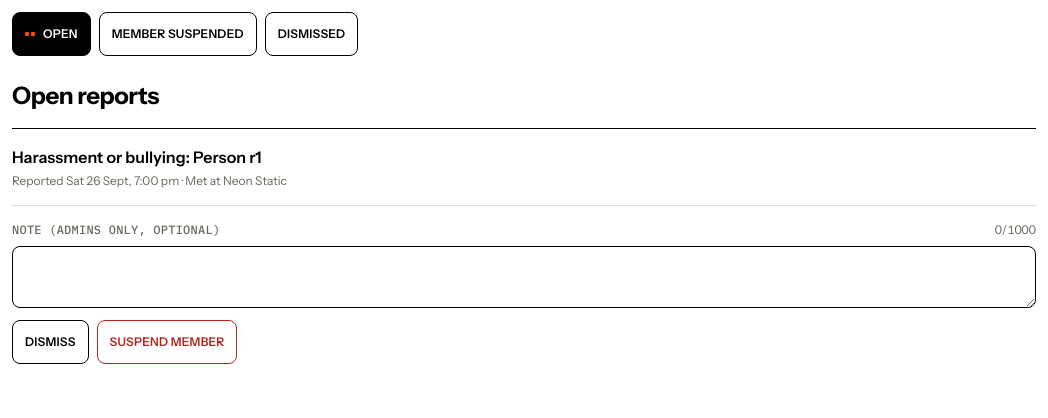
Test case: Admin: member reports › Suspend asks first (focus on Cancel), then suspends
expect the heading "Harassment or bullying: Person r1" is shown: met, box [12,147,262,167]
Step 1. Click the button "Suspend member" → (167, 342), box [96,320,237,364]
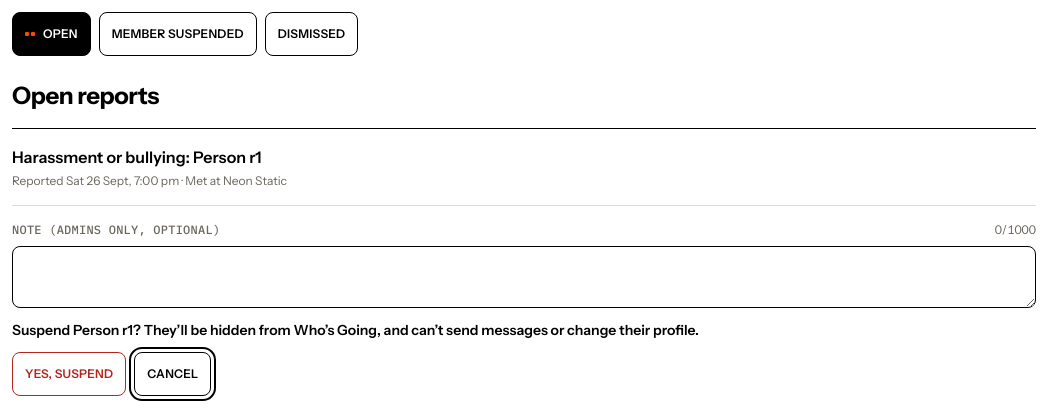
expect the element "Suspend Person r1?" is shown: met, box [12,321,699,396]
Step 2. Click the button "Cancel" → (173, 374), box [134,352,212,396]
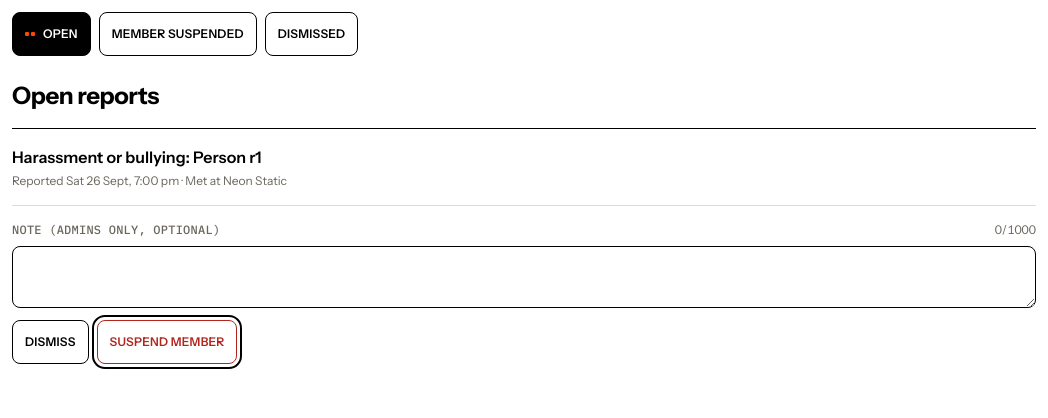
Step 3. Click the button "Suspend member" → (167, 342), box [96,320,237,364]
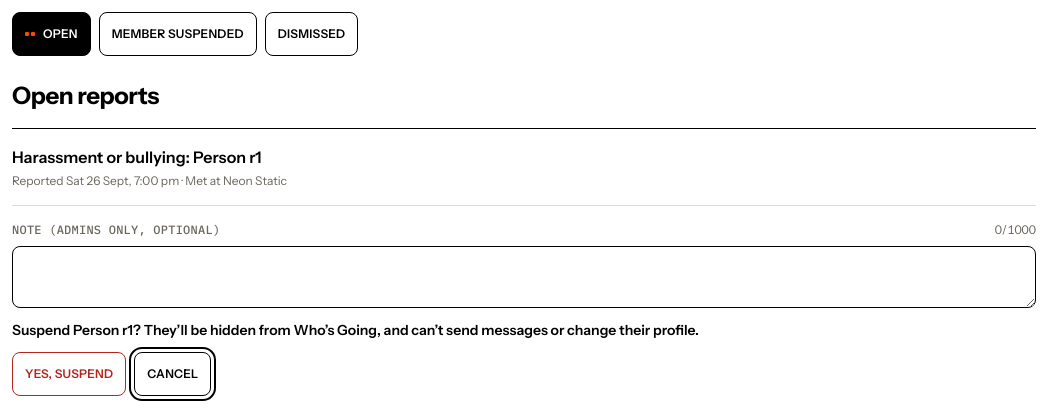
Step 4. Click the button "Yes, suspend" → (69, 374), box [12,352,126,396]
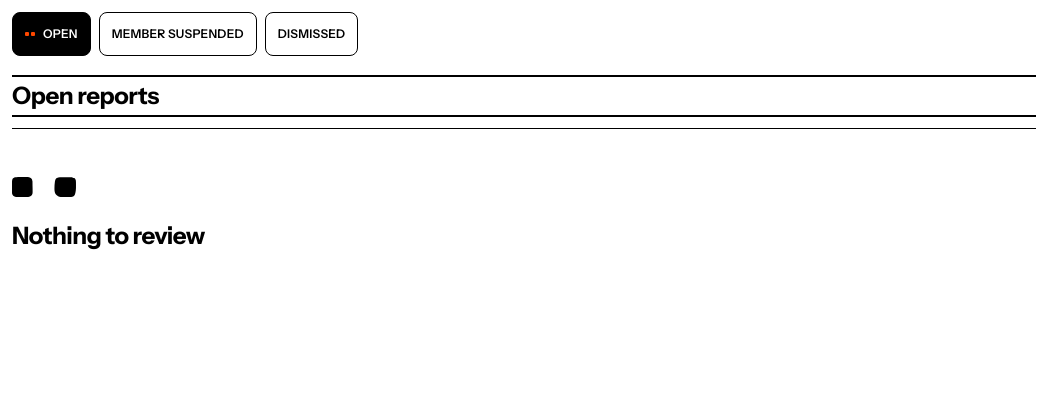
expect the text "Nothing to review" is shown: met, box [12,221,205,250]
